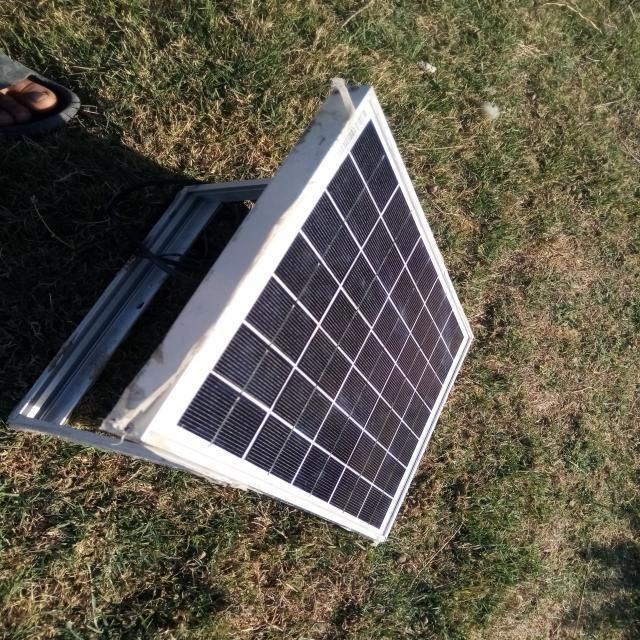Normal Solar Panel: (142, 88, 474, 542)
